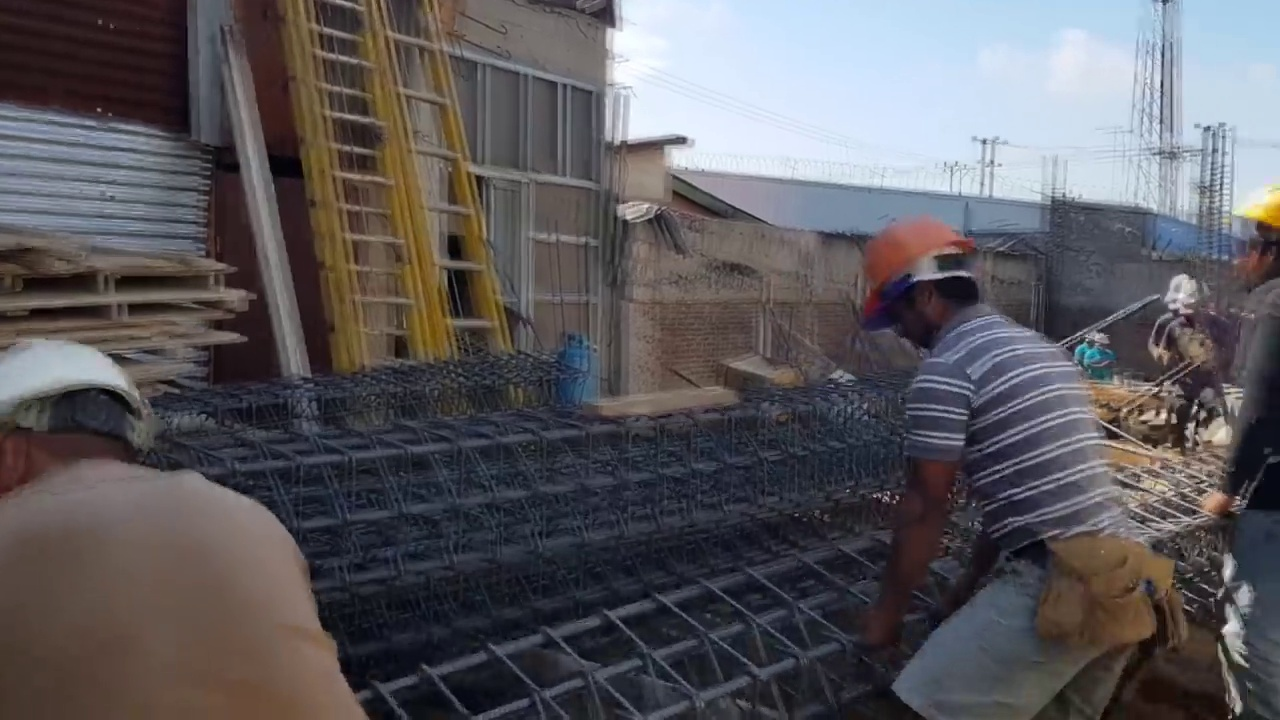helmet: (0, 347, 154, 456), (860, 213, 978, 332), (1234, 185, 1280, 230), (1167, 277, 1207, 319), (1093, 334, 1110, 345)
helmet-on: (0, 335, 151, 502), (862, 216, 996, 354), (1234, 184, 1280, 294), (1166, 276, 1214, 331), (1092, 333, 1110, 353)
person: (858, 210, 1154, 719), (0, 336, 368, 720), (1207, 185, 1280, 719), (1155, 276, 1224, 446), (1083, 333, 1117, 379)
